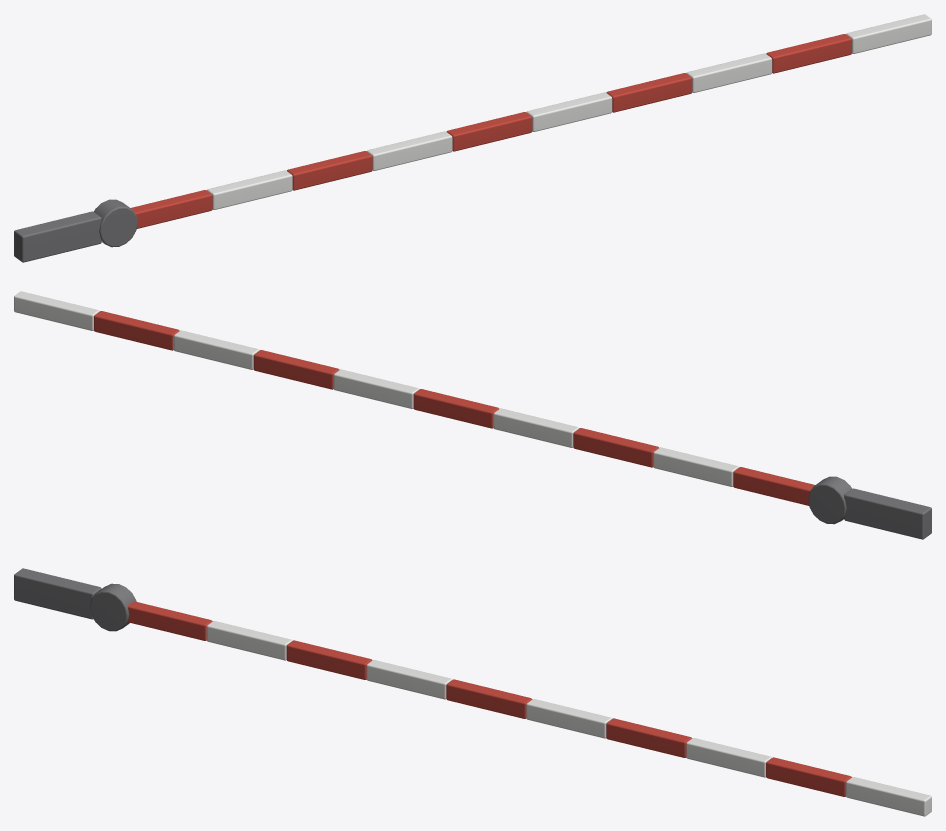
File: water.ferry.barrier_arm.glb
3 renders of one model, top to bottom at view 1: azimuth 30°, elevation 25°; view 2: azimuth 150°, elevation 25°; view 3: azimuth 330°, elevation 25°, orthographic.
Parts seen in each view (by area): view 1: main__paint_eed, main__paint_c44, main__galv_777; view 2: main__paint_eed, main__paint_c44, main__galv_777; view 3: main__paint_eed, main__paint_c44, main__galv_777.
Boxes of the visible parts, x1=… form: main__paint_eed: x1=207, y1=14, x2=931, y2=209; main__paint_c44: x1=130, y1=34, x2=851, y2=228; main__galv_777: x1=14, y1=199, x2=137, y2=262; main__paint_eed: x1=14, y1=291, x2=738, y2=486; main__paint_c44: x1=94, y1=311, x2=815, y2=505; main__galv_777: x1=808, y1=476, x2=931, y2=539; main__paint_eed: x1=206, y1=621, x2=931, y2=816; main__paint_c44: x1=128, y1=601, x2=851, y2=796; main__galv_777: x1=14, y1=568, x2=136, y2=631.
Size of the model in its own units: 5.7 by 0.24 by 0.12.
